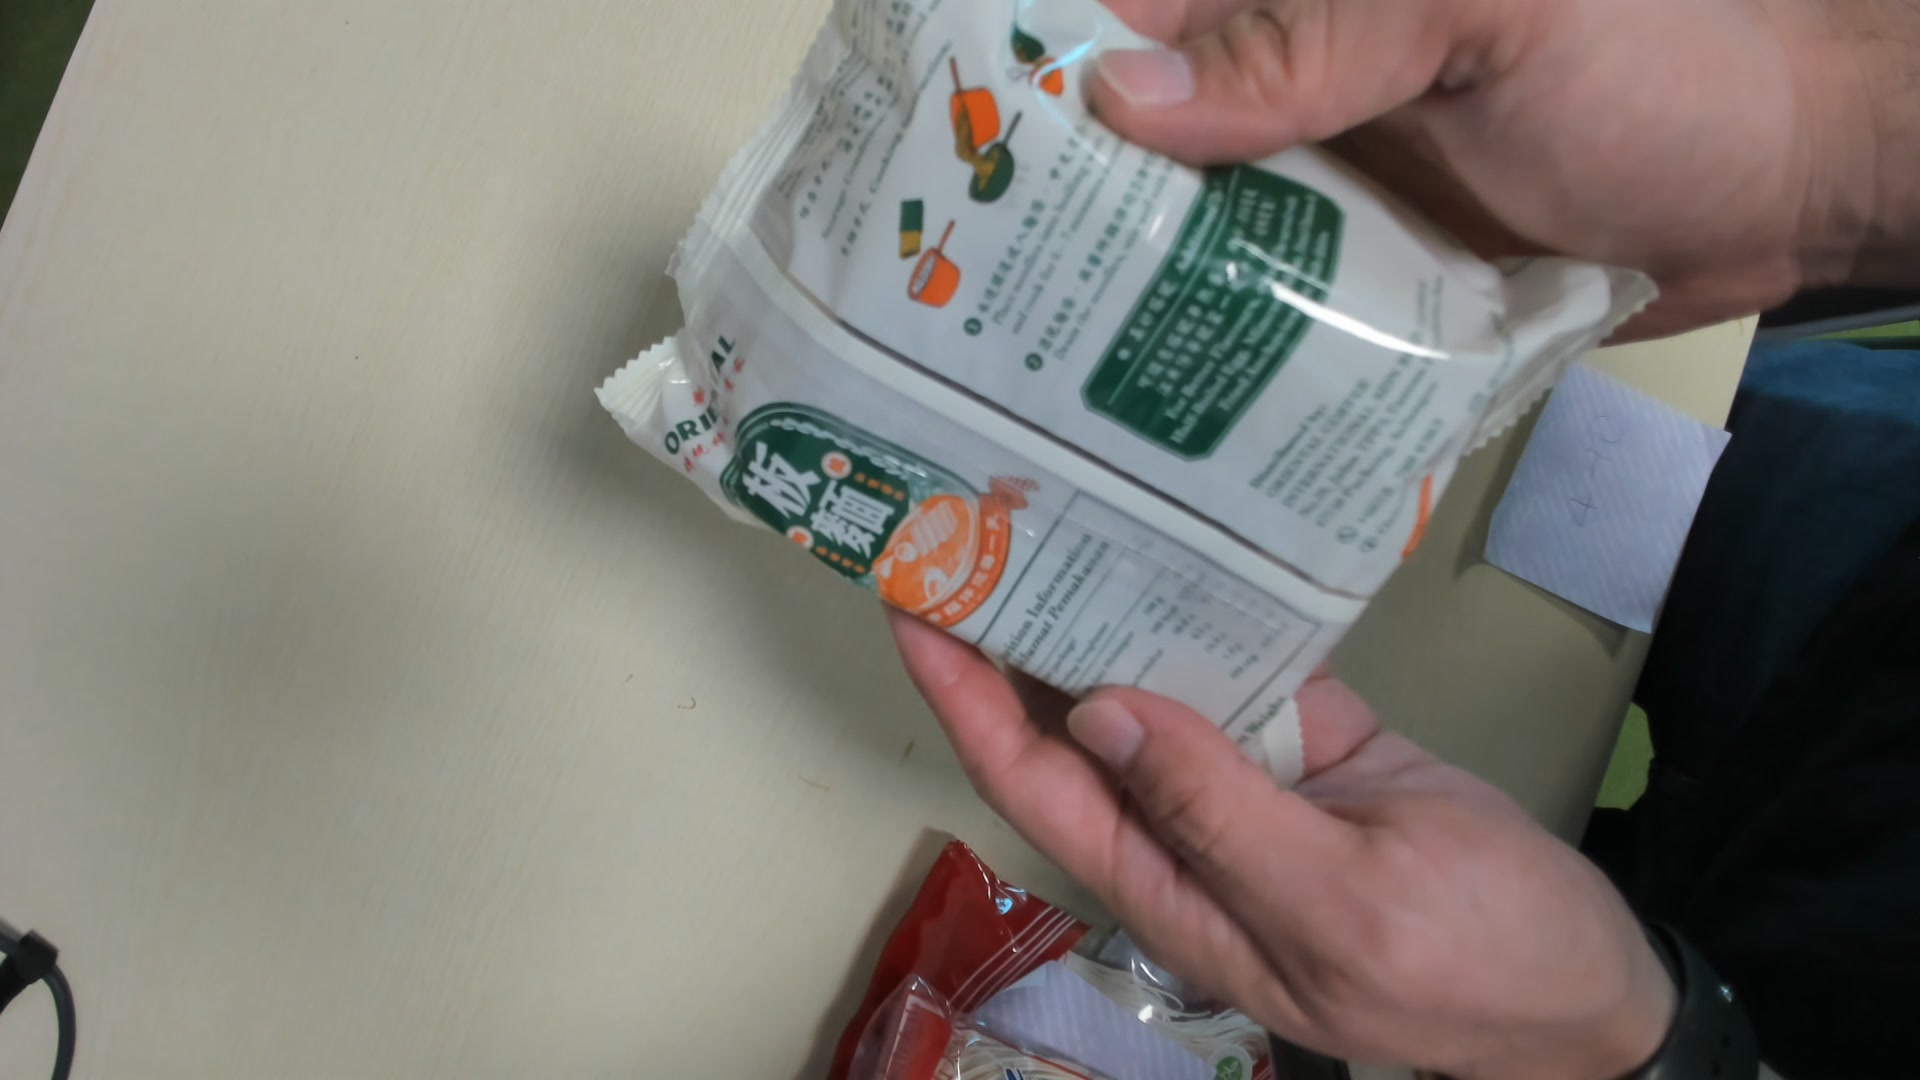BeeHoonVermicelli_100-199g_NonHalal_NonHealthy: (609, 8, 1572, 771)
